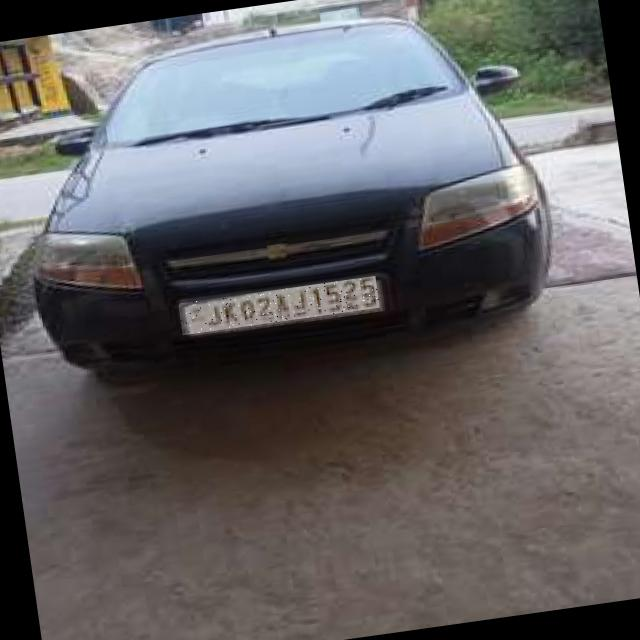Plate: (180, 277, 381, 336)
